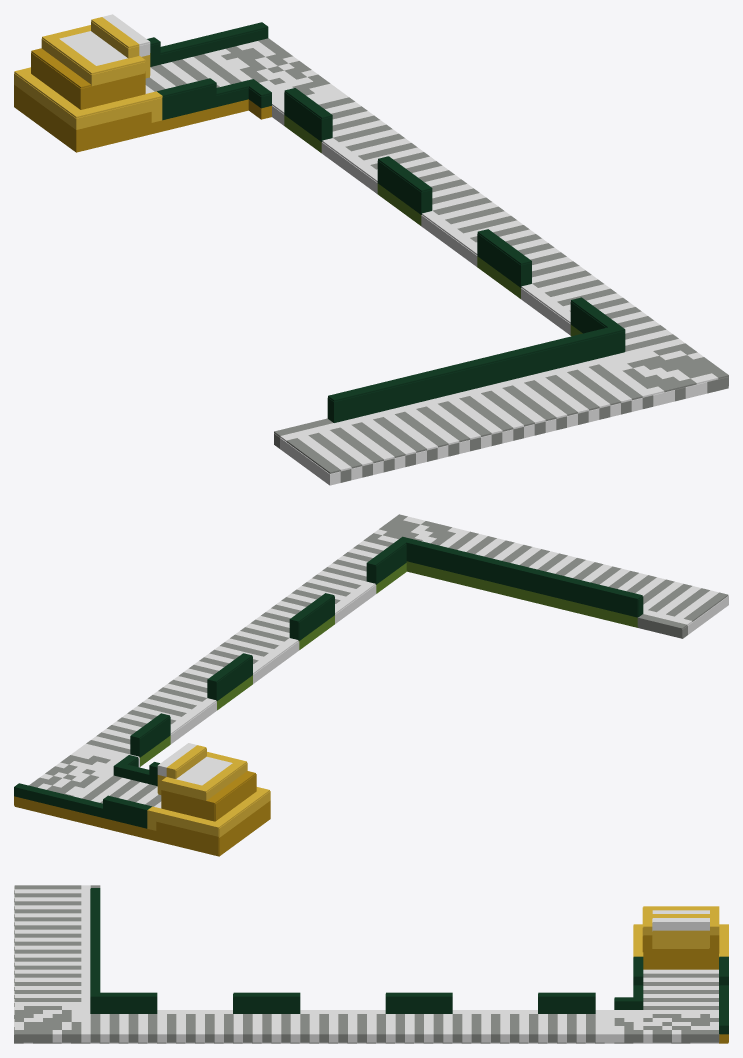
File: belt.glb
The picture shows the model from 3 angles, top to bottom: view 1: azimuth 30°, elevation 25°; view 2: azimuth 150°, elevation 25°; view 3: azimuth 270°, elevation 25°; orthographic projection. The views are drawn at different scales.
Visible parts, largest first — view 1: Object_0, Object_0.001; view 2: Object_0, Object_0.001; view 3: Object_0, Object_0.001.
Part boxes in pixels (x1=…): Object_0: x1=14, y1=14, x2=728, y2=473; Object_0.001: x1=14, y1=21, x2=728, y2=485; Object_0: x1=14, y1=514, x2=728, y2=855; Object_0.001: x1=14, y1=544, x2=728, y2=856; Object_0: x1=14, y1=885, x2=728, y2=1042; Object_0.001: x1=14, y1=886, x2=728, y2=1043.
Size of the model in its own units: 3.7 by 0.7135 by 7.51.
2 materials, 2 textured.
